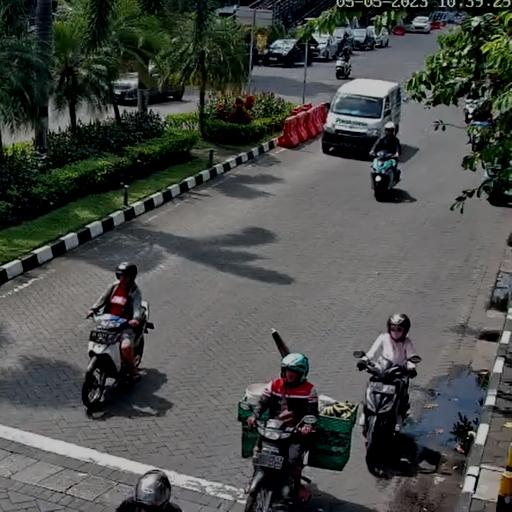mobil: (321, 78, 401, 155)
motor: (77, 298, 153, 416), (353, 348, 422, 472), (244, 408, 318, 511), (367, 147, 403, 203)
